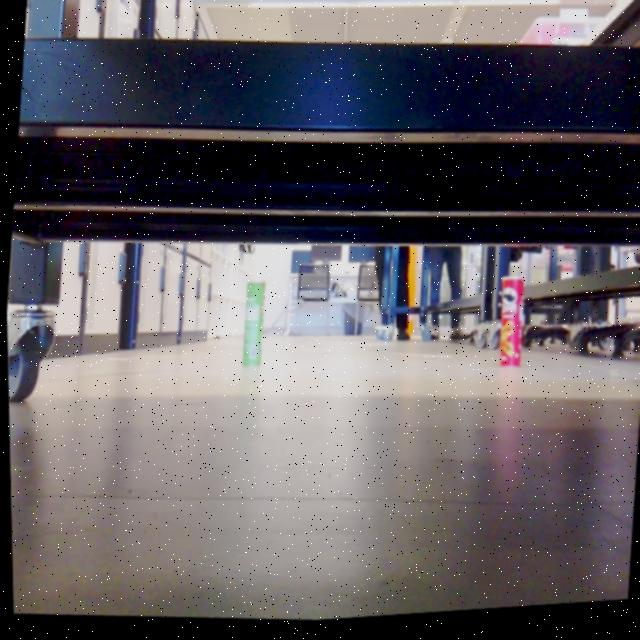greenpringles: (232, 276, 274, 379)
redpringles: (485, 276, 530, 381)
